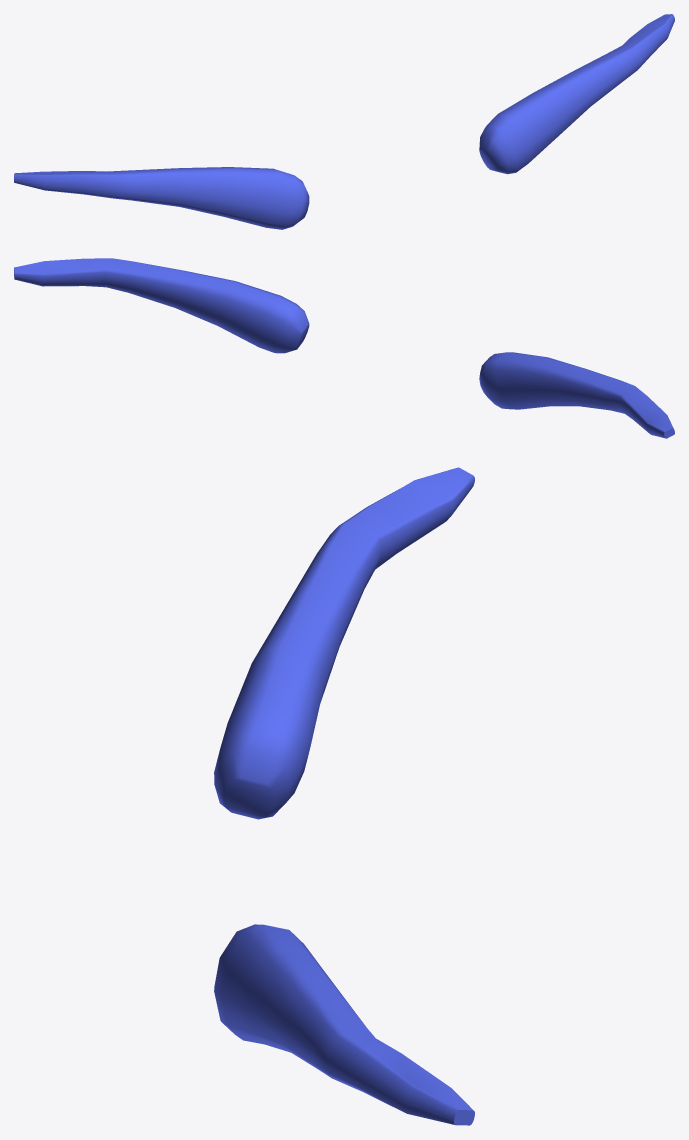
The model's file is Eyebrows_26_03.fbx.
3 renders of one model, top to bottom at view 1: azimuth 30°, elevation 25°; view 2: azimuth 150°, elevation 25°; view 3: azimuth 270°, elevation 25°, orthographic. The views are drawn at different scales.
Parts seen in each view (by area): view 1: Eyebrows_26_03; view 2: Eyebrows_26_03; view 3: Eyebrows_26_03.
Boxes of the visible parts, x1,y1,x2,y2 form: Eyebrows_26_03: [14, 14, 674, 229]; Eyebrows_26_03: [14, 258, 674, 438]; Eyebrows_26_03: [214, 467, 474, 1125].
Size of the model in its own units: 17.7 by 1.89 by 3.02.
